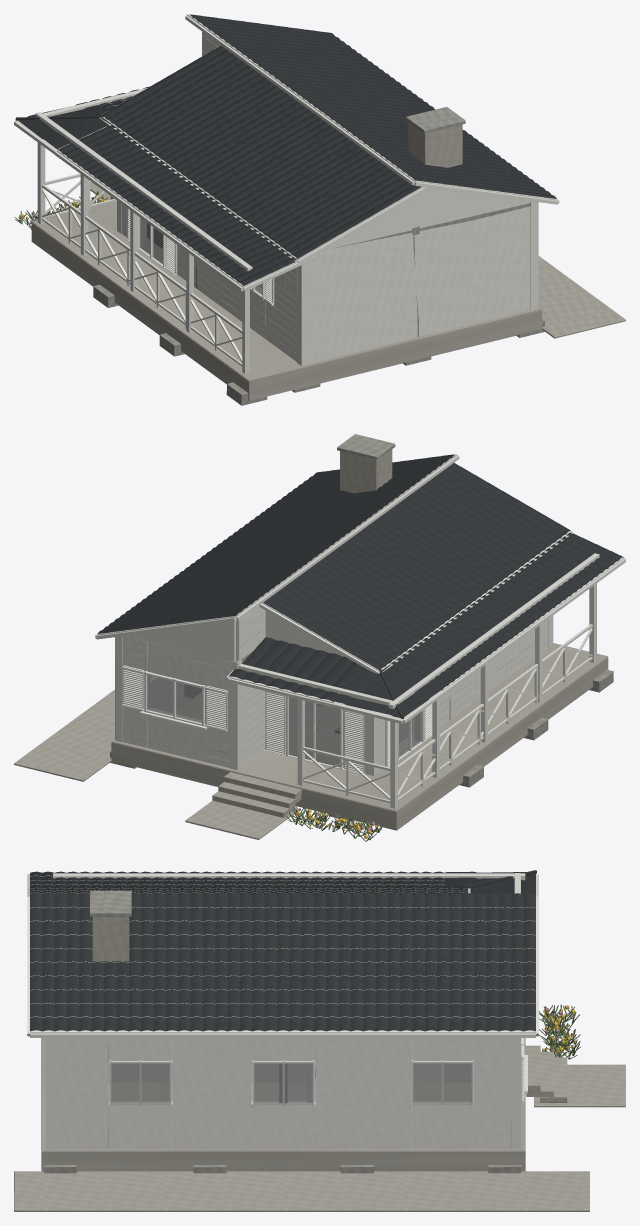
File: residencia-rincao-v07.glb
3 renders of one model, top to bottom at view 1: azimuth 30°, elevation 25°; view 2: azimuth 150°, elevation 25°; view 3: azimuth 270°, elevation 25°, orthographic. The views are drawn at different scales.
Parts seen in each view (by area): view 1: stage_4_Telhas grafite, stage_3_Pintura mineral clara, stage_6_Piso cimenticio, stage_6_Madeira pintada, stage_4_Madeira pintada, stage_2_Madeira pintada, stage_1_Concreto aparente, stage_4_Piso cimenticio, stage_5_Esquadrias brancas, stage_4_Concreto aparente, stage_2_Concreto aparente, stage_5_Vidro cinza reflexo; view 2: stage_4_Telhas grafite, stage_6_Piso cimenticio, stage_3_Pintura mineral clara, stage_6_Madeira pintada, stage_4_Madeira pintada, stage_2_Madeira pintada, stage_5_Esquadrias brancas, stage_5_Vidro cinza reflexo, stage_5_Madeira pintada, stage_4_Piso cimenticio, stage_1_Concreto aparente, stage_3_Piso cimenticio (+3 smaller); view 3: stage_4_Telhas grafite, stage_3_Pintura mineral clara, stage_6_Piso cimenticio, stage_4_Madeira pintada, stage_5_Vidro cinza reflexo, stage_5_Esquadrias brancas, stage_2_Madeira pintada, stage_6_Madeira pintada, stage_6_Linho, stage_1_Concreto aparente, stage_4_Piso cimenticio, stage_6_Folhagem (+1 smaller).
Part boxes in pixels (<box>): stage_4_Telhas grafite: <box>17,14,556,286</box>; stage_3_Pintura mineral clara: <box>122,31,530,363</box>; stage_6_Piso cimenticio: <box>31,182,625,400</box>; stage_6_Madeira pintada: <box>42,173,538,366</box>; stage_4_Madeira pintada: <box>14,14,559,291</box>; stage_2_Madeira pintada: <box>35,88,252,373</box>; stage_1_Concreto aparente: <box>32,222,544,405</box>; stage_4_Piso cimenticio: <box>408,122,462,167</box>; stage_5_Esquadrias brancas: <box>127,208,273,305</box>; stage_4_Concreto aparente: <box>405,107,465,133</box>; stage_2_Concreto aparente: <box>196,203,530,336</box>; stage_5_Vidro cinza reflexo: <box>140,218,262,294</box>; stage_4_Telhas grafite: <box>97,454,623,717</box>; stage_6_Piso cimenticio: <box>14,643,608,839</box>; stage_3_Pintura mineral clara: <box>123,606,548,773</box>; stage_6_Madeira pintada: <box>115,615,592,802</box>; stage_4_Madeira pintada: <box>95,454,625,723</box>; stage_2_Madeira pintada: <box>238,553,599,808</box>; stage_5_Esquadrias brancas: <box>122,666,432,773</box>; stage_5_Vidro cinza reflexo: <box>147,675,421,767</box>; stage_5_Madeira pintada: <box>123,665,425,773</box>; stage_4_Piso cimenticio: <box>340,449,392,493</box>; stage_1_Concreto aparente: <box>110,657,613,821</box>; stage_3_Piso cimenticio: <box>123,609,548,766</box>; stage_4_Telhas grafite: <box>30,871,535,1031</box>; stage_3_Pintura mineral clara: <box>55,1038,511,1148</box>; stage_6_Piso cimenticio: <box>14,1038,625,1211</box>; stage_4_Madeira pintada: <box>27,874,538,1037</box>; stage_5_Vidro cinza reflexo: <box>111,1063,472,1104</box>; stage_5_Esquadrias brancas: <box>109,1038,524,1106</box>; stage_2_Madeira pintada: <box>53,873,525,893</box>; stage_6_Madeira pintada: <box>46,1038,521,1149</box>; stage_6_Linho: <box>108,1082,470,1101</box>; stage_1_Concreto aparente: <box>42,1150,525,1173</box>; stage_4_Piso cimenticio: <box>92,916,129,961</box>; stage_6_Folhagem: <box>539,1004,580,1059</box>.
Size of what is drawn, in the model's own units: 10.54 by 5.61 by 13.28.
13 materials, 5 textured.
